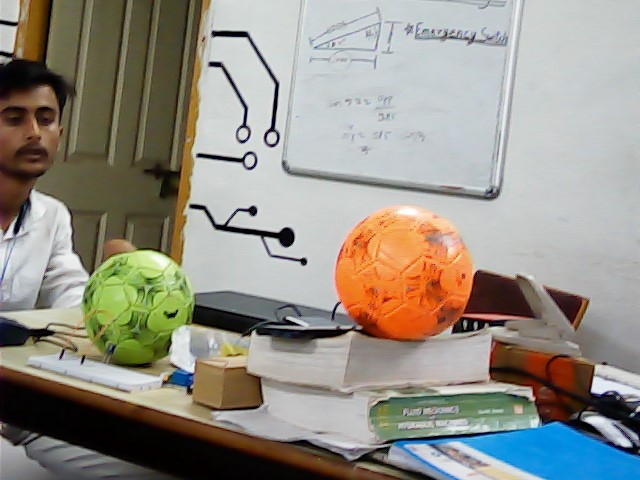Green_ball: (79, 249, 213, 363)
Orange_ball: (336, 202, 475, 342)
